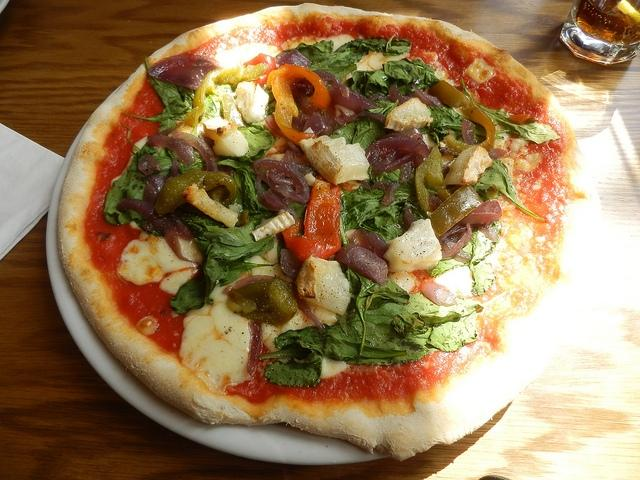bell pepper: (184, 64, 268, 138), (282, 175, 341, 263), (268, 64, 332, 144), (428, 80, 496, 155), (226, 276, 298, 326), (415, 143, 447, 212)
